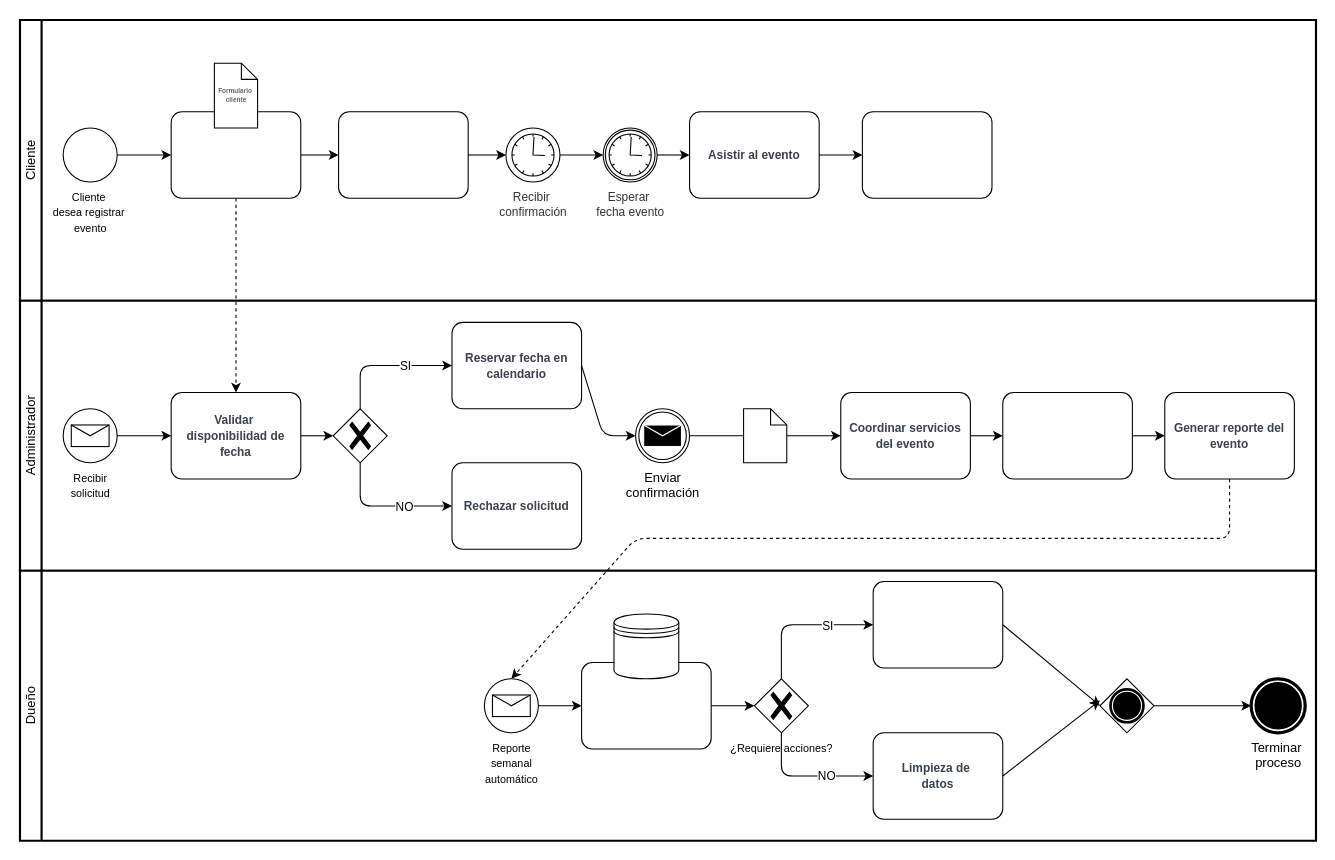
This 1335x860 diagram has some shape labels left out. Each missing label, with the centre of its shape:
Calificar servicio: the point at 926,154
Completar formulario de solicitud: the point at 235,154
Confirmación: the point at 764,435
Gestionar evento en el día: the point at 1067,435
Implementar mejoras: the point at 937,624
MongoDB: the point at 646,646
Realizar pago inicial (50%): the point at 403,154
Revisar reportes de eventos: the point at 645,705
¿Fecha disponible?: the point at 359,435
